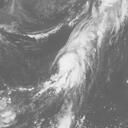cyclone: (53, 31, 91, 88)
